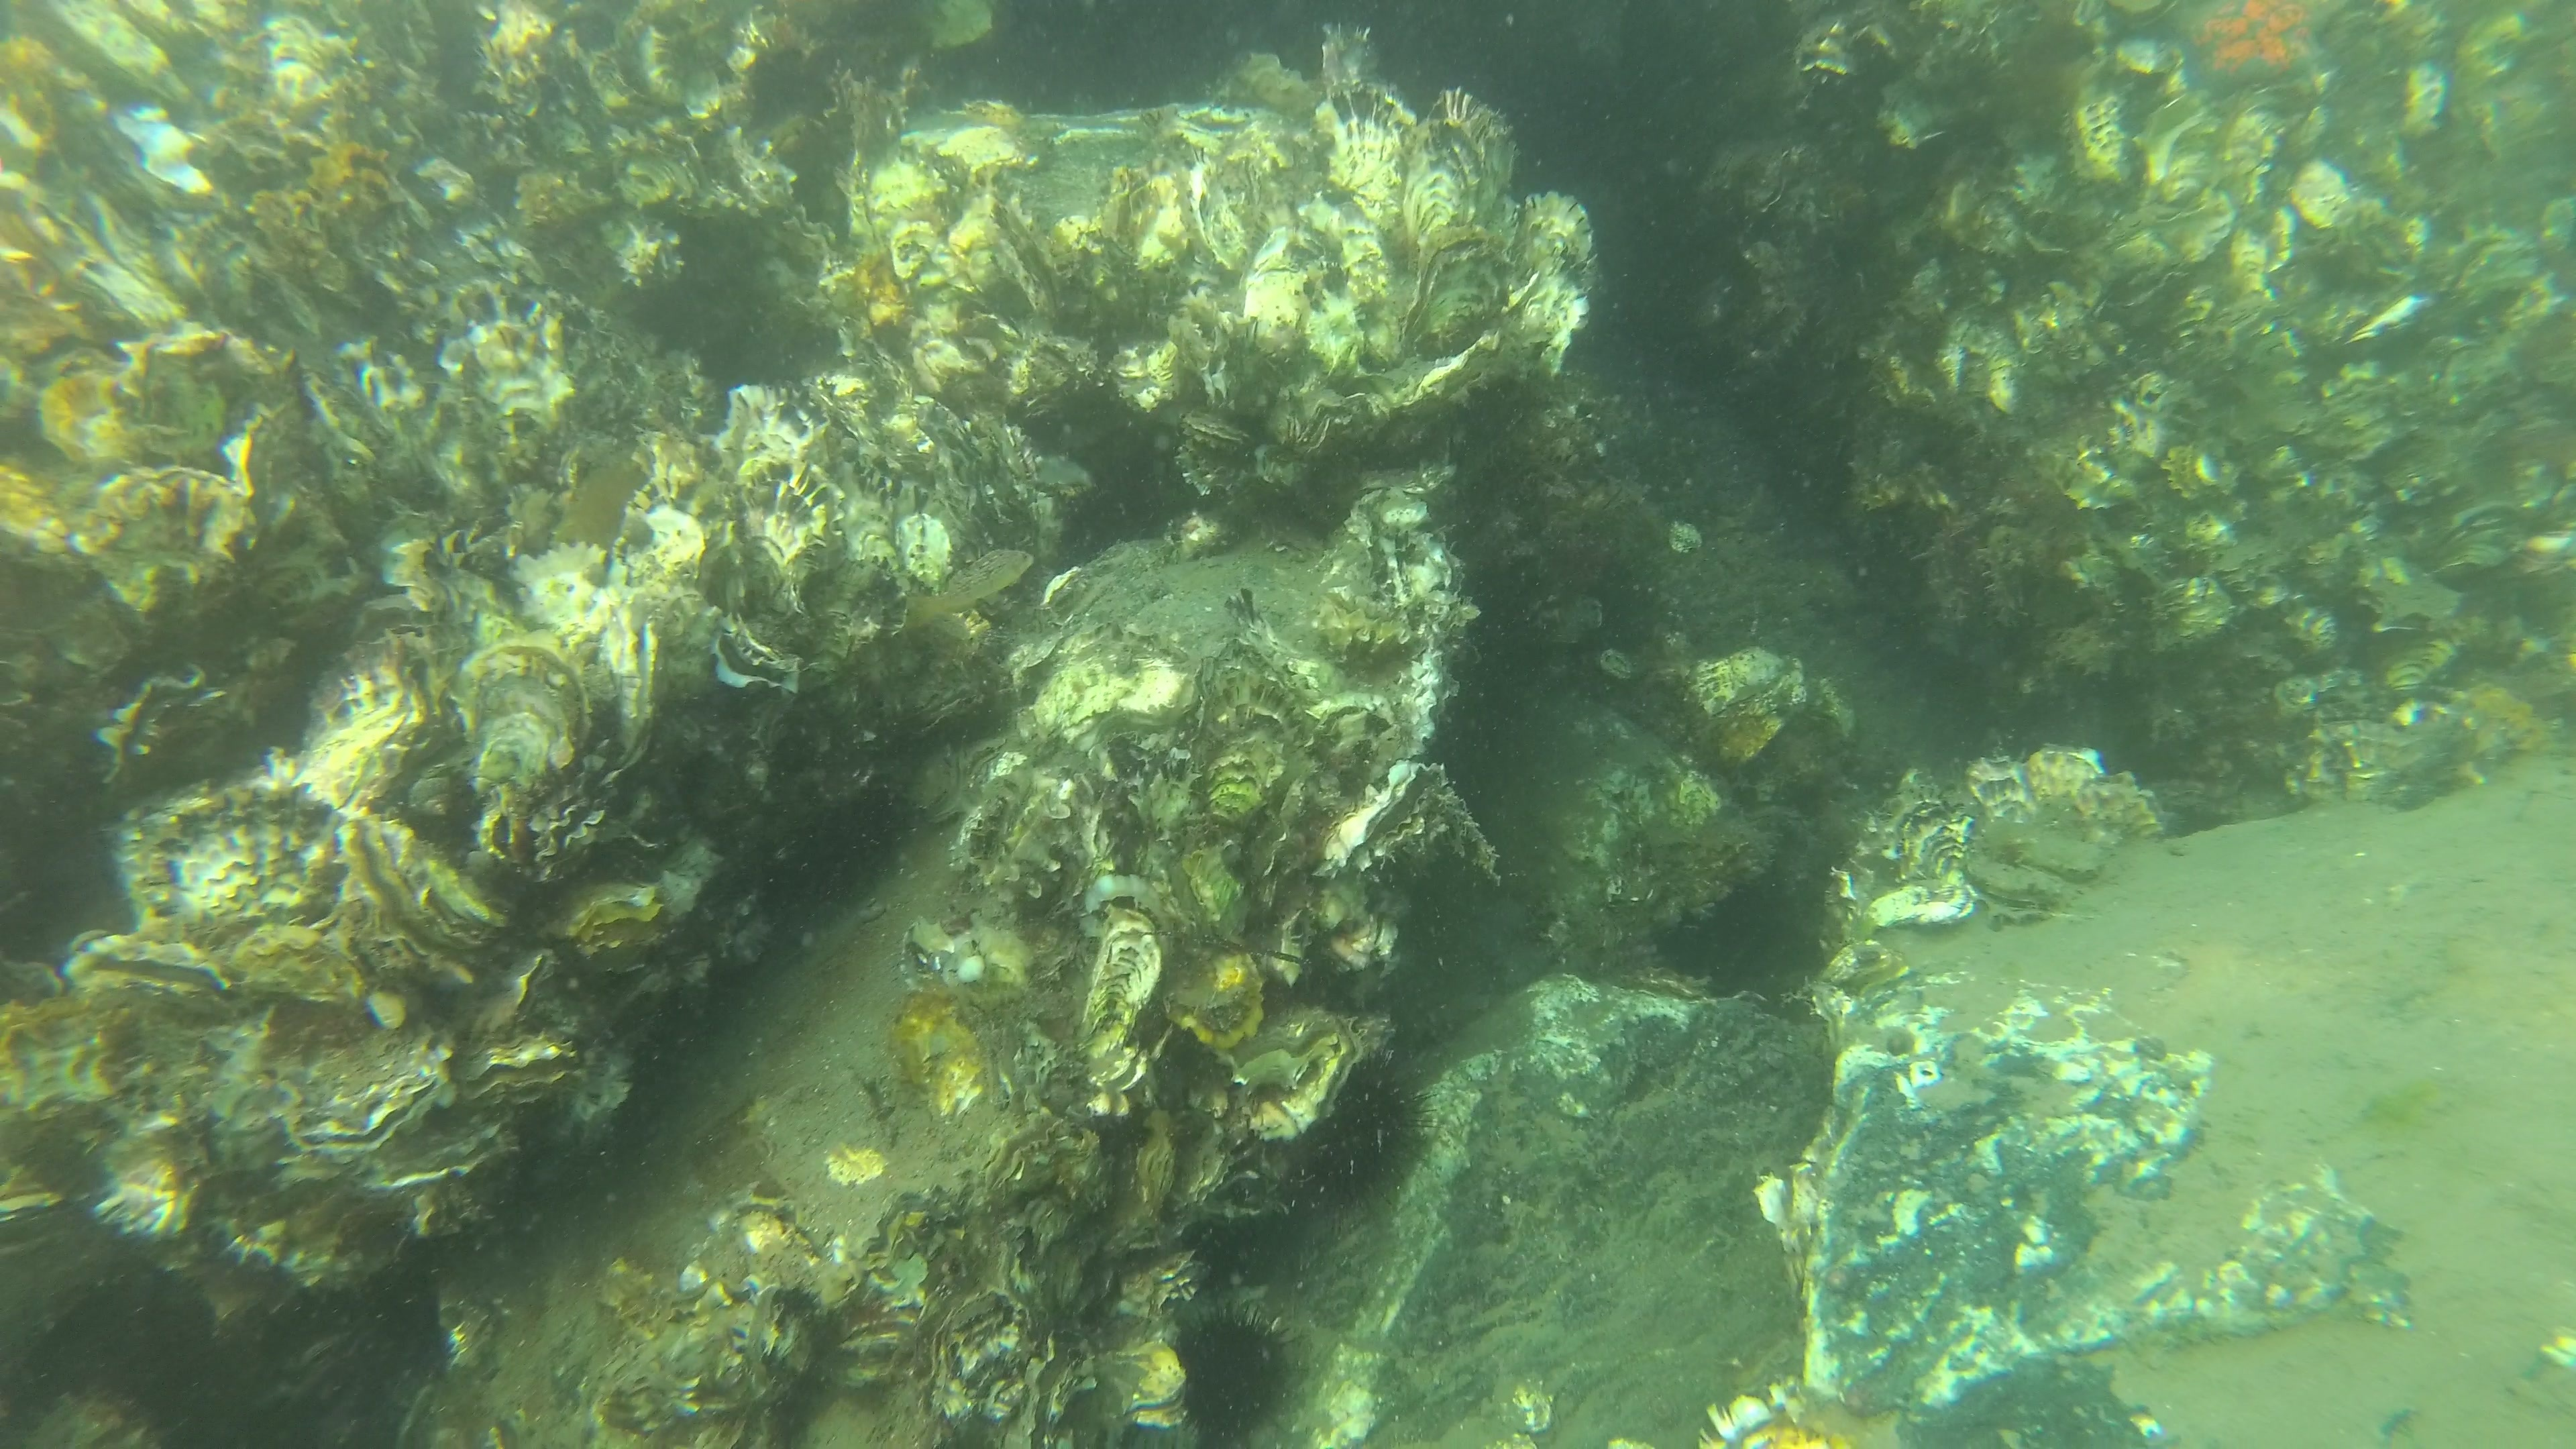echinus: (1171, 1295, 1299, 1440), (1323, 1069, 1435, 1200)
starfish: (2174, 2, 2339, 92)
